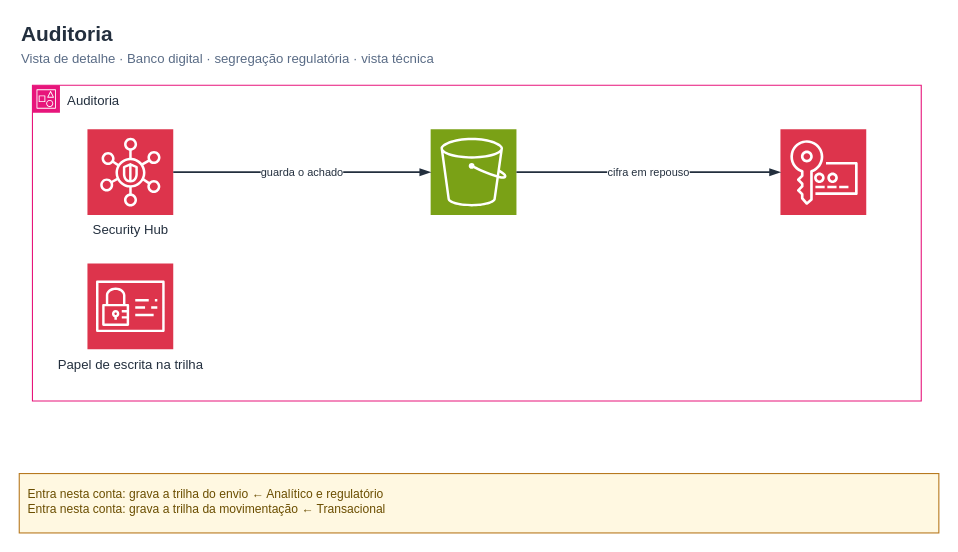
Image size: 958x552. Some labels were removed from this diagram. The shapes that lost their labels are listed below. From the top down, each one's box as (x1, y1, x2, y2) in pixels, then its label:
(430, 128, 516, 215): S3 · trilha com Object Lock
(779, 128, 866, 215): KMS · chave da auditoria
